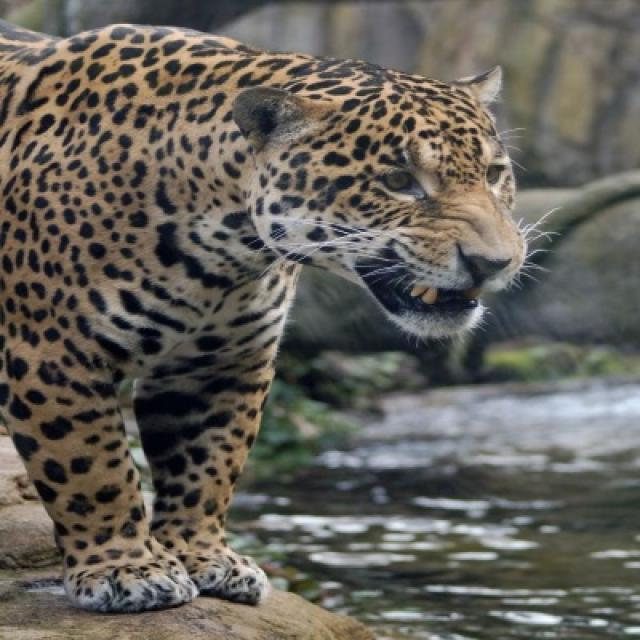Jaguar: (0, 19, 531, 616)
